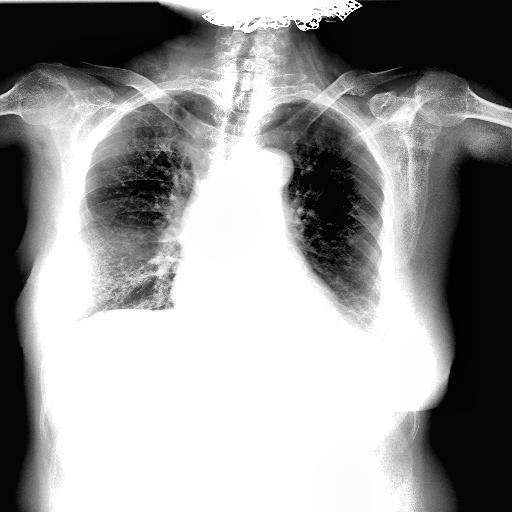0- Aortic enlargement: (241, 144, 293, 203), (244, 147, 294, 198), (247, 145, 293, 188)
3- Cardiomegaly: (168, 286, 342, 330)
7- Lung Opacity: (60, 228, 170, 328), (336, 248, 392, 335)
